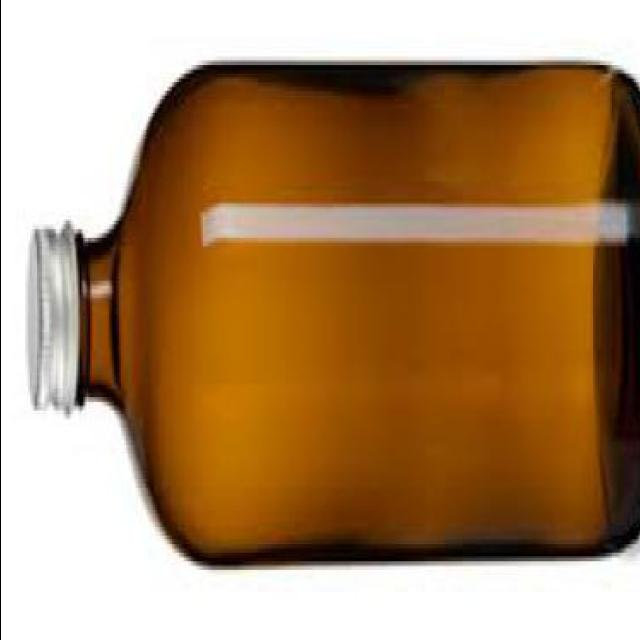kaca: (73, 71, 640, 570)
